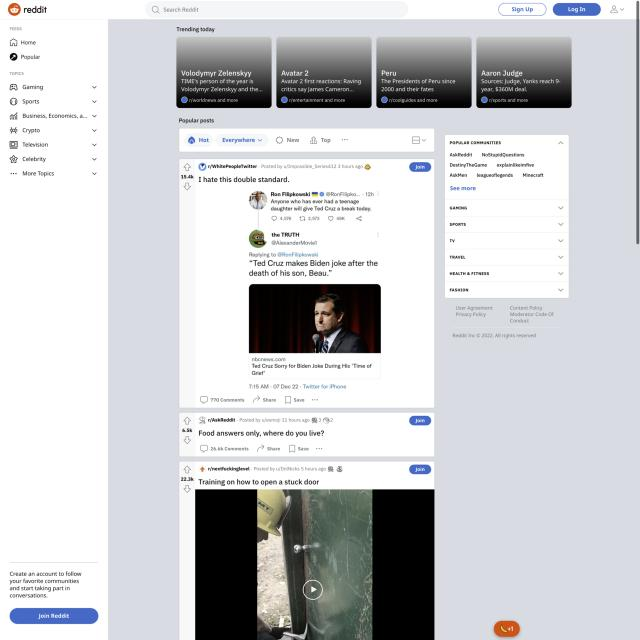input: (146, 1, 408, 18)
logo: (6, 1, 50, 18)
